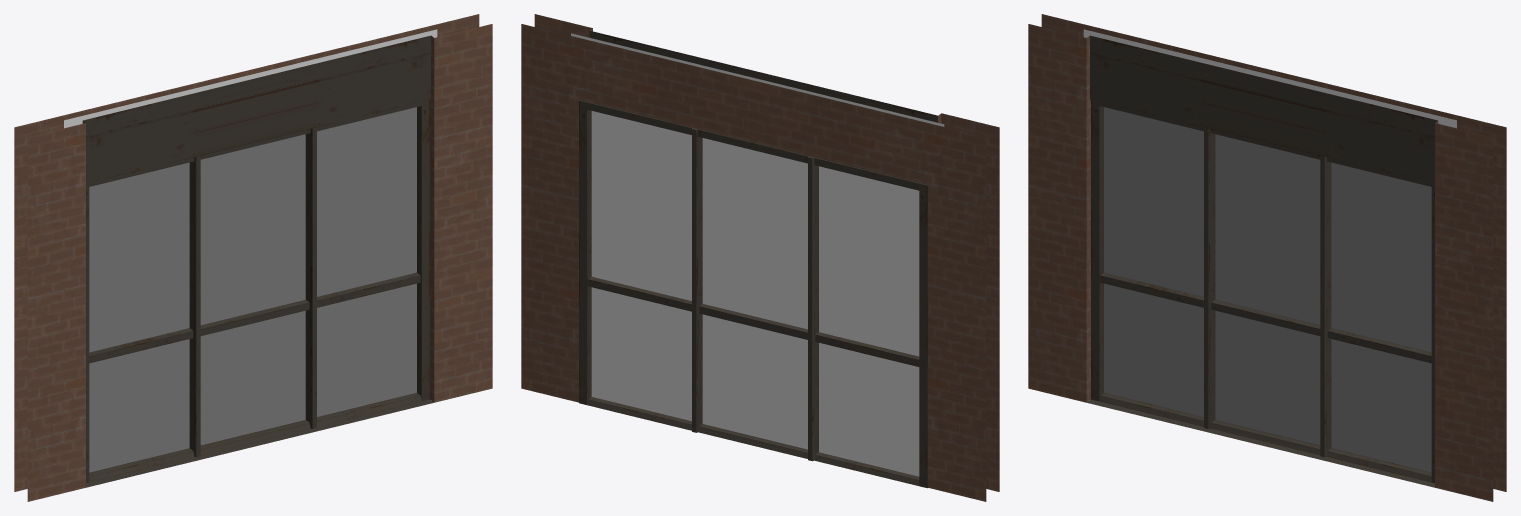
File: Metal_Window.glb
The picture shows the model from 3 angles, left to right: view 1: azimuth 30°, elevation 25°; view 2: azimuth 150°, elevation 25°; view 3: azimuth 330°, elevation 25°; orthographic projection.
Parts seen in each view (by area): view 1: Metal_Window; view 2: Metal_Window; view 3: Metal_Window.
Boxes of the visible parts, x1=… form: Metal_Window: x1=14, y1=14, x2=492, y2=501; Metal_Window: x1=521, y1=14, x2=999, y2=501; Metal_Window: x1=1028, y1=14, x2=1506, y2=501.
Size of the model in its own units: 4 by 3 by 0.2239.
Materials: 4 (2 with a texture image).
